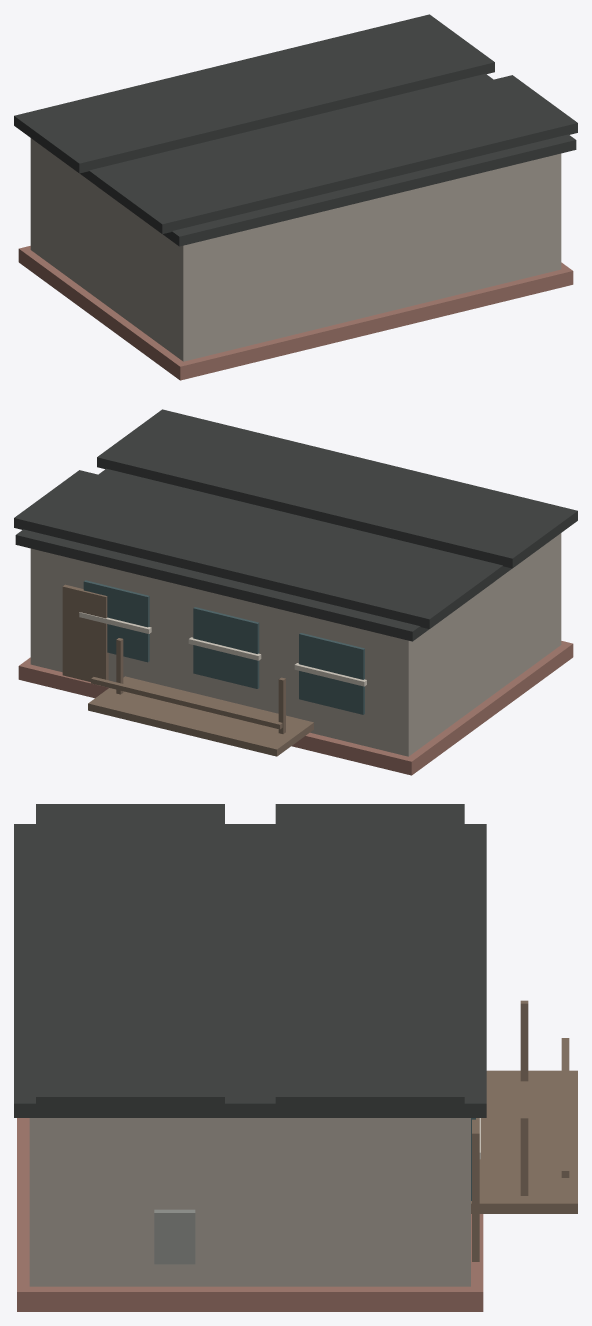
File: house_01.glb
3 renders of one model, top to bottom at view 1: azimuth 30°, elevation 25°; view 2: azimuth 150°, elevation 25°; view 3: azimuth 270°, elevation 25°, orthographic. The views are drawn at different scales.
Size of the model in its own units: 11 by 3.9 by 8.95.
